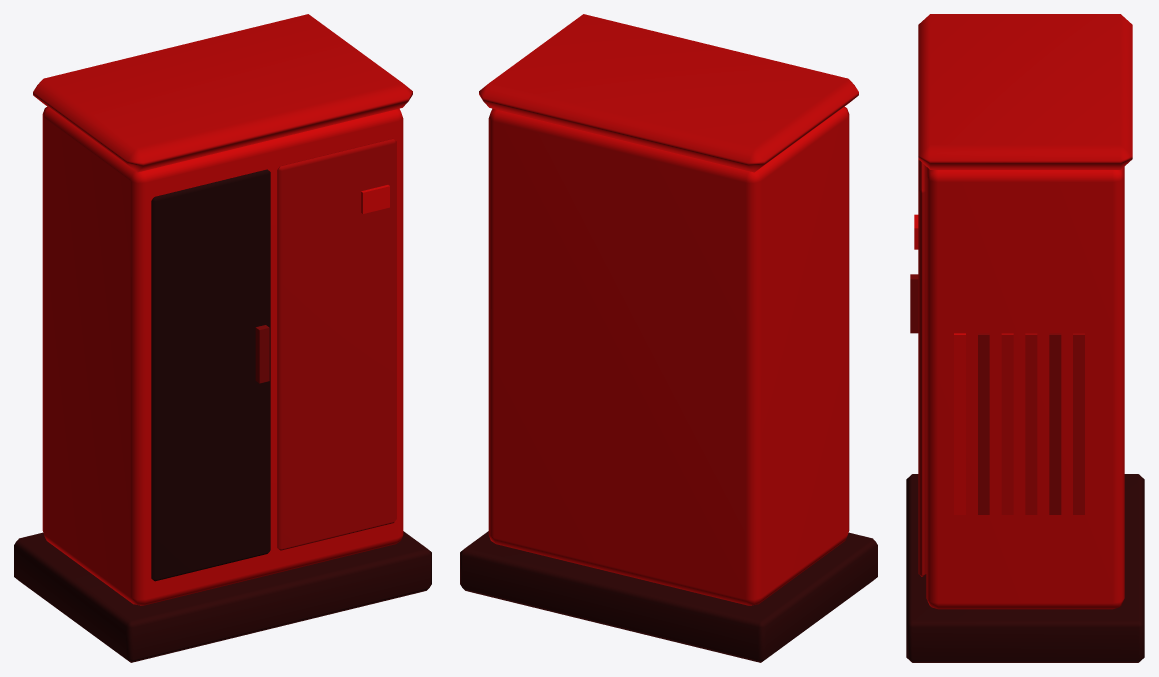
File: utility_box.glb
3 views of the same model, side by side, from view 1: azimuth 30°, elevation 25°; view 2: azimuth 150°, elevation 25°; view 3: azimuth 270°, elevation 25° (orthographic).
Parts seen in each view (by area): view 1: utility_box; view 2: utility_box; view 3: utility_box.
Part boxes in pixels (x1,y1,x2,y2): utility_box: [14, 14, 431, 662]; utility_box: [460, 14, 877, 662]; utility_box: [906, 14, 1144, 662].
Size of the model in its own units: 0.9 by 1.42 by 0.6.
